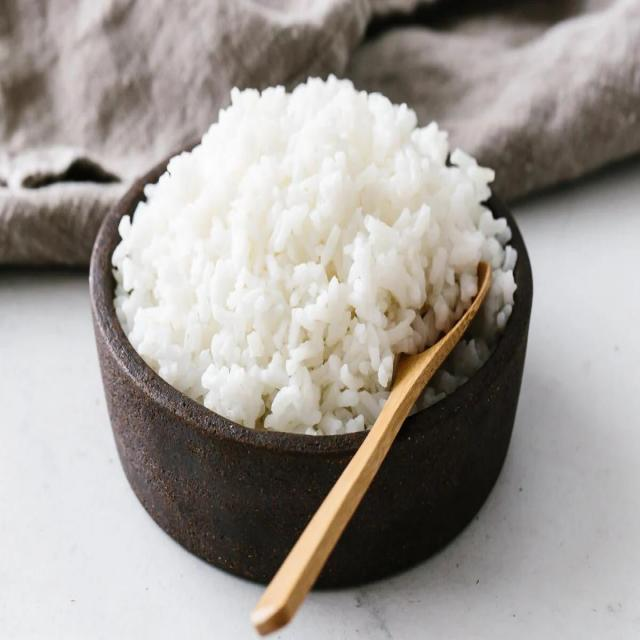rice: (115, 71, 501, 433)
